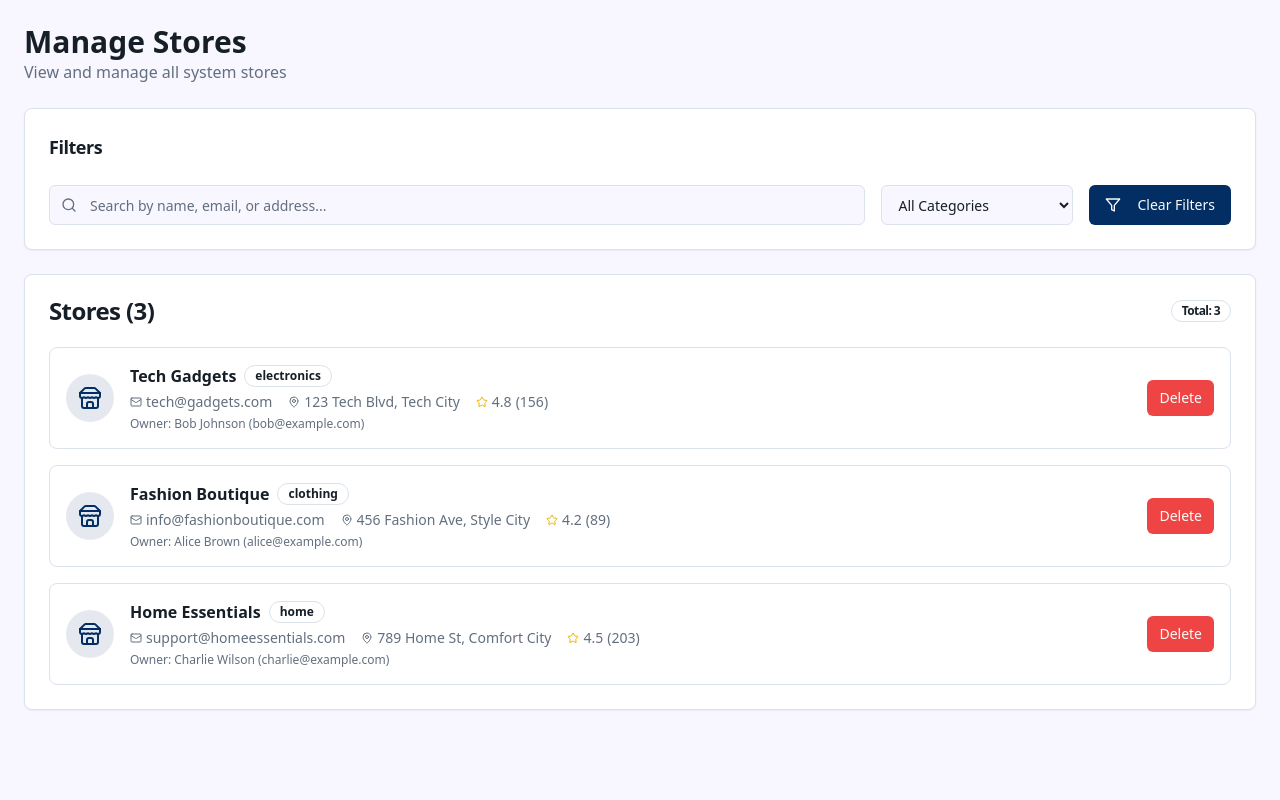
Test case: AdminStores › should filter stores by category
Note: Filter by electronics category
Select "Electronics" in the dropdown showing "All Categories" at [977, 205], box [881, 185, 1073, 225]
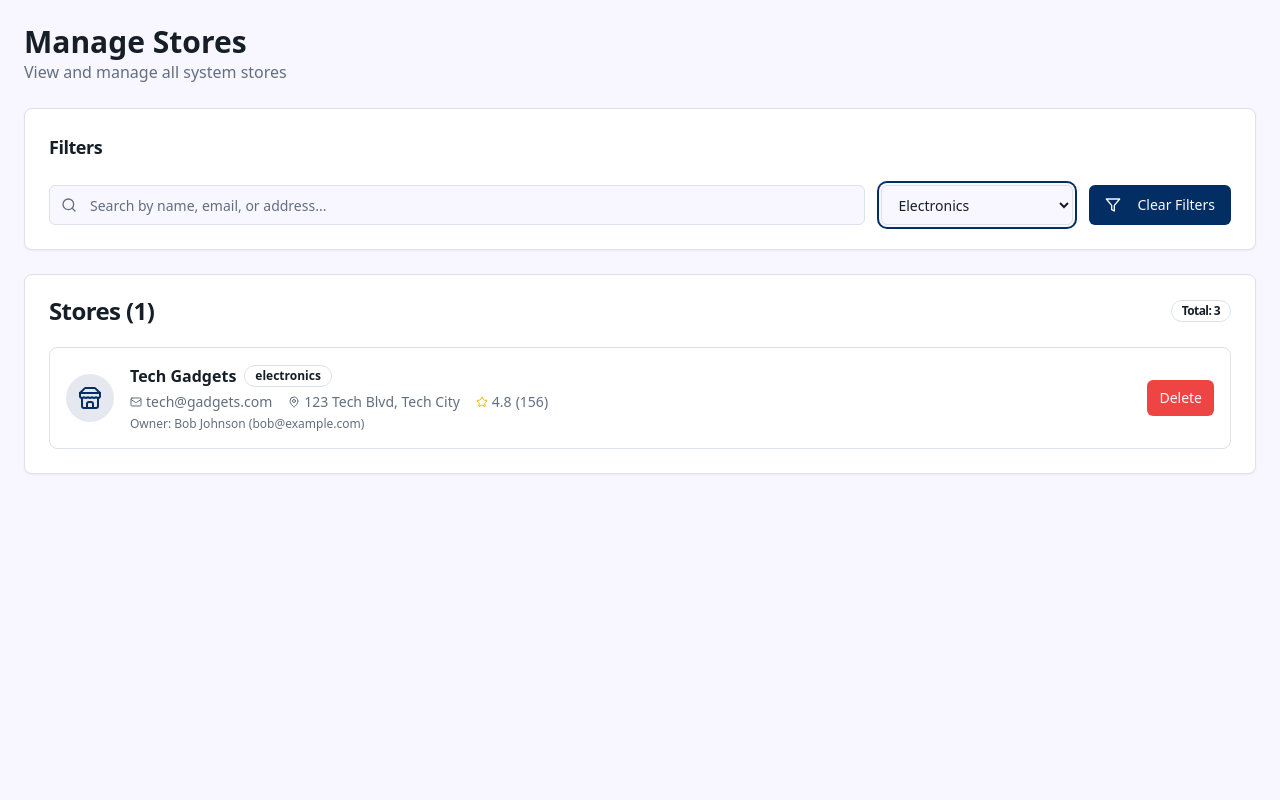
Expected: the heading "Tech Gadgets" is shown, [130, 364, 236, 388]
Expected: the text "Stores (1)" is shown, [49, 299, 154, 323]
Expected: the heading "Fashion Boutique" is gone
